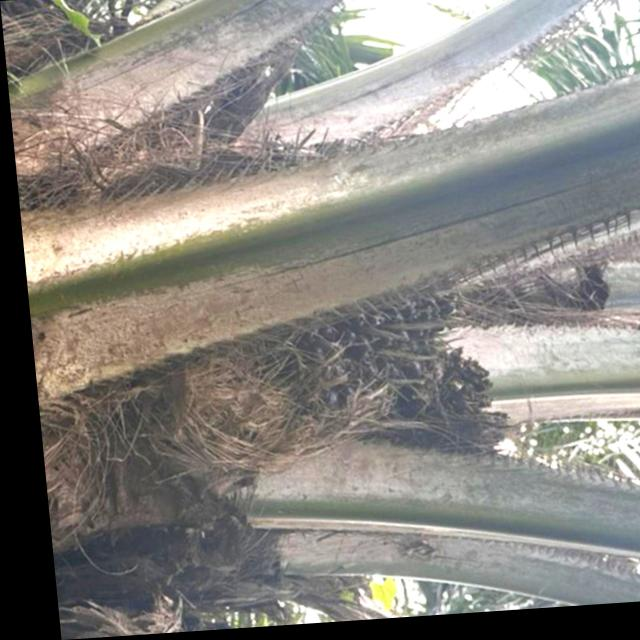almost: (225, 280, 475, 453)
